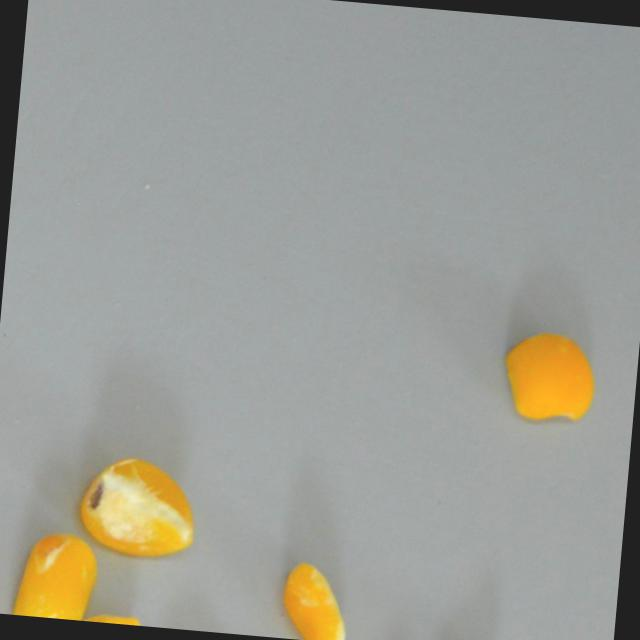dañado: (70, 450, 207, 565), (494, 323, 603, 431), (8, 526, 102, 621), (276, 556, 360, 640)
